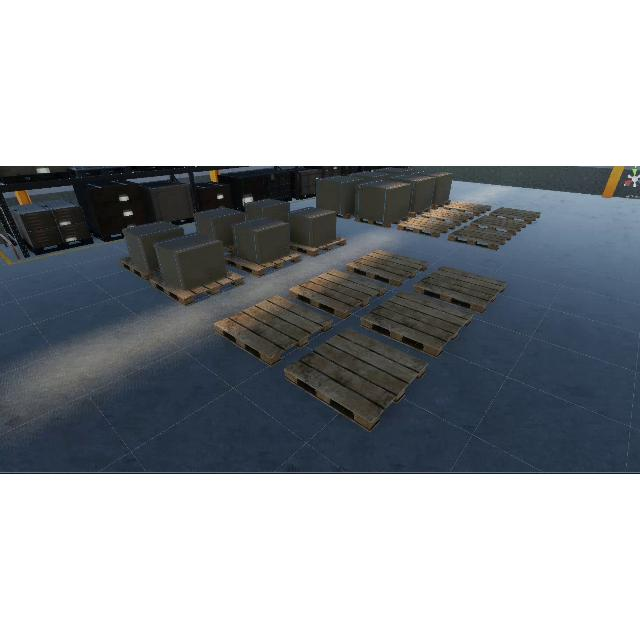wooden_pallet: (283, 328, 429, 434), (214, 295, 334, 368), (359, 290, 473, 360), (289, 269, 387, 321), (413, 266, 507, 315), (149, 269, 244, 307), (346, 249, 428, 287), (223, 250, 302, 278), (447, 226, 512, 251), (396, 216, 456, 238), (291, 236, 347, 258), (470, 216, 526, 235), (119, 256, 161, 281), (421, 209, 475, 227), (489, 208, 541, 225), (443, 201, 492, 217), (354, 215, 409, 228)
